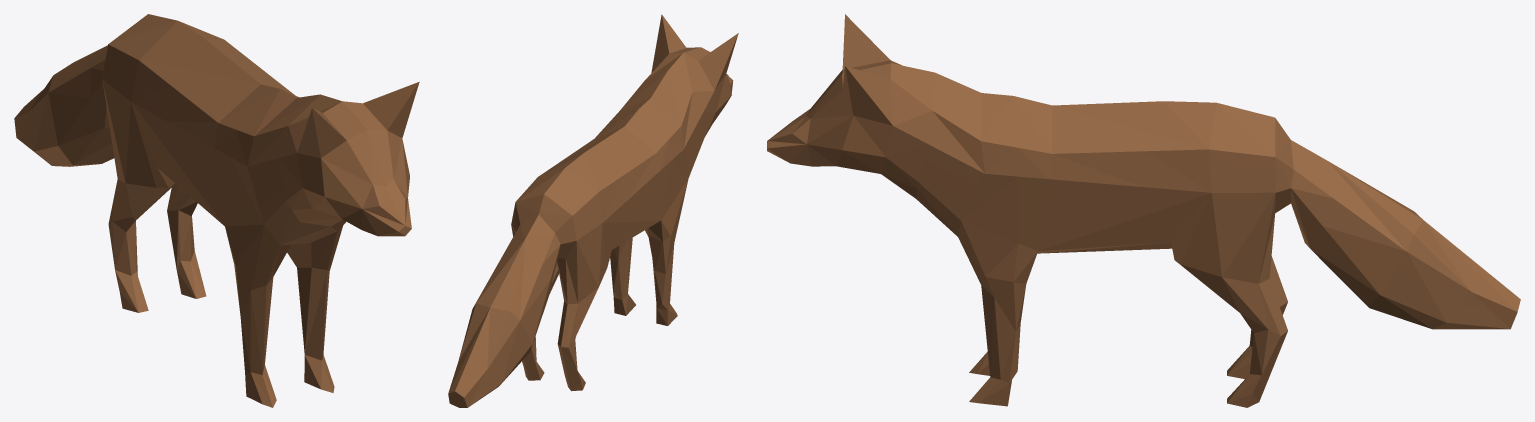
The model's file is fox_0.obj.
The picture shows the model from 3 angles, left to right: view 1: azimuth 30°, elevation 25°; view 2: azimuth 150°, elevation 25°; view 3: azimuth 270°, elevation 25°; orthographic projection. The views are drawn at different scales.
Parts seen in each view (by area): view 1: fox1; view 2: fox1; view 3: fox1.
Boxes of the visible parts, <box> form: fox1: <box>14,14,419,407</box>; fox1: <box>448,14,738,407</box>; fox1: <box>767,14,1520,407</box>.
Size of the model in its own units: 0.6176 by 1.94 by 3.79.
